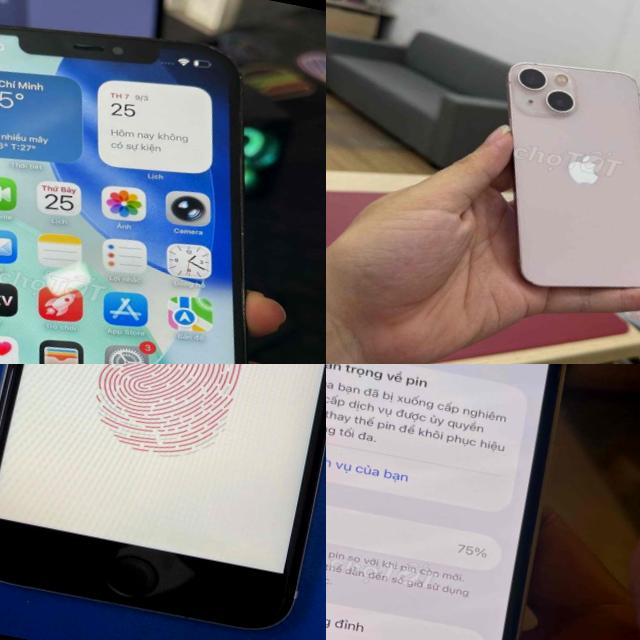gen_12_13: (0, 0, 326, 364), (326, 364, 610, 640), (463, 52, 640, 314)
gen_7_8: (0, 364, 326, 627)
